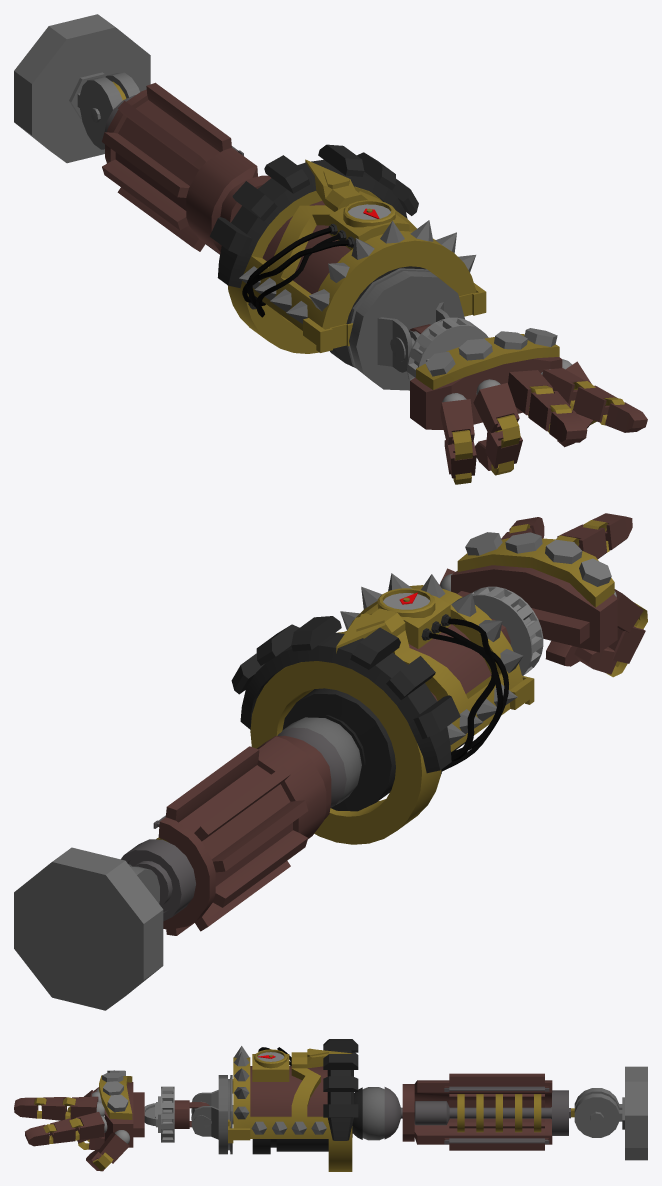
The model's file is HAND.fbx.
3 views of the same model, one above another, from view 1: azimuth 30°, elevation 25°; view 2: azimuth 150°, elevation 25°; view 3: azimuth 270°, elevation 25° (orthographic). The views are drawn at different scales.
Parts seen in each view (by area): view 1: Cylinder.011; view 2: Cylinder.011; view 3: Cylinder.011.
Boxes of the visible parts, x1,y1,x2,y2 form: Cylinder.011: [14, 14, 647, 484]; Cylinder.011: [14, 513, 647, 1010]; Cylinder.011: [14, 1039, 647, 1171].
Bounding box in the file's own units: 22.4 × 19.71 × 95.03.
